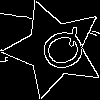Q: (29, 24, 90, 78)
